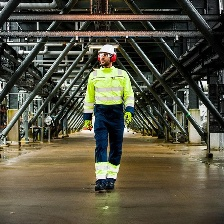helmet: (93, 44, 122, 63)
person: (75, 40, 137, 200)
vest: (83, 66, 136, 114)
